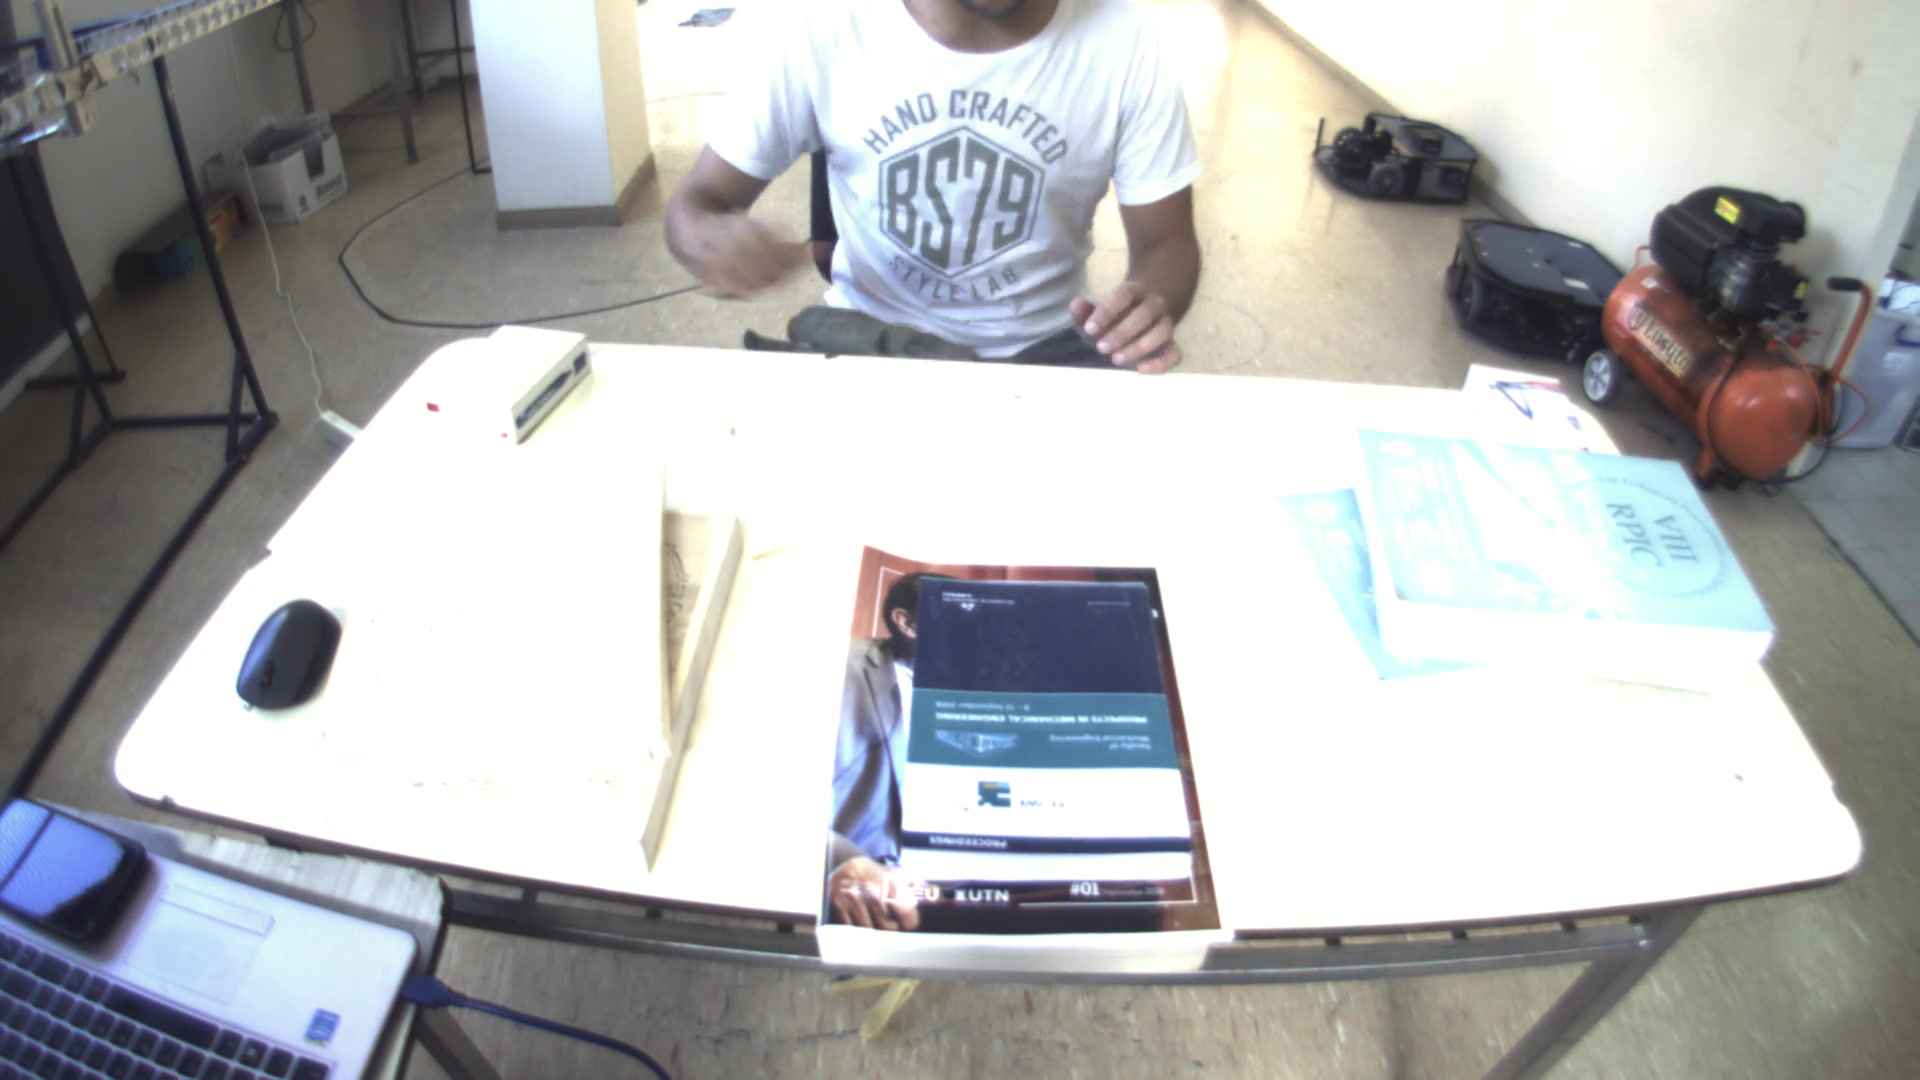hand: (644, 189, 807, 301), (1067, 244, 1195, 368)
